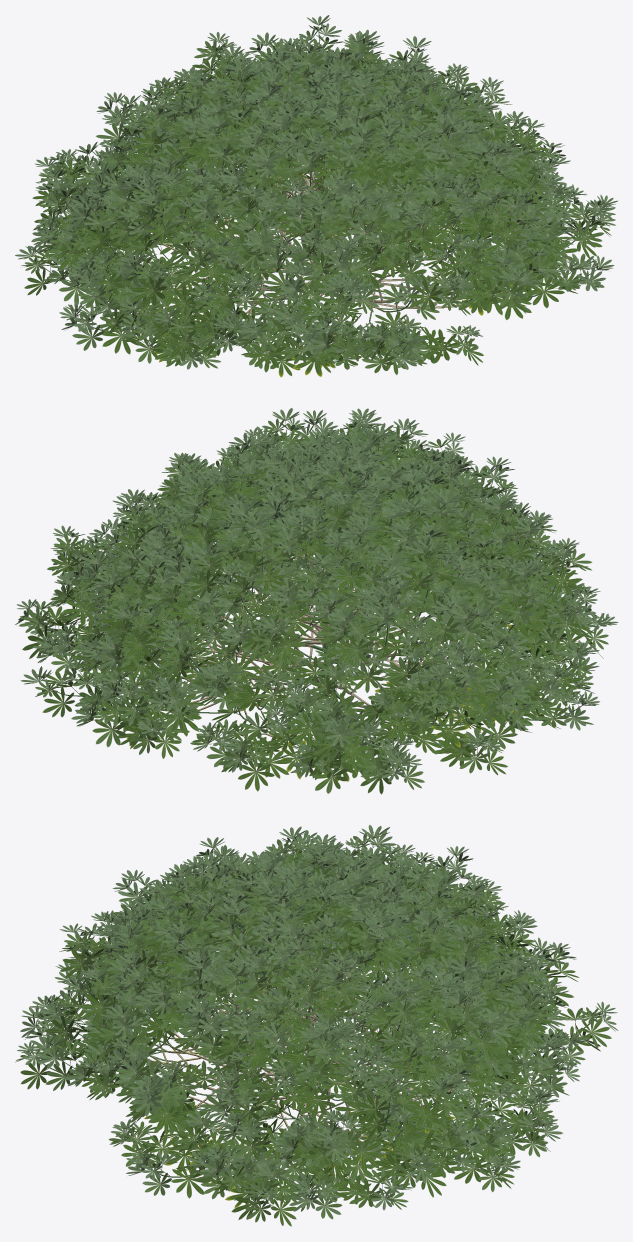
The model's file is buisson-5.glb.
3 renders of one model, top to bottom at view 1: azimuth 30°, elevation 25°; view 2: azimuth 150°, elevation 25°; view 3: azimuth 270°, elevation 25°, orthographic. The views are drawn at different scales.
Visible parts, largest first — view 1: Lupinus_arboreus_HD; view 2: Lupinus_arboreus_HD; view 3: Lupinus_arboreus_HD.
Boxes of the visible parts, bbox=[...] form: Lupinus_arboreus_HD: bbox=[15, 15, 617, 377]; Lupinus_arboreus_HD: bbox=[15, 408, 618, 794]; Lupinus_arboreus_HD: bbox=[15, 824, 618, 1226].
Size of the model in its own units: 2.69 by 1.21 by 2.53.
13 materials, 13 textured.
